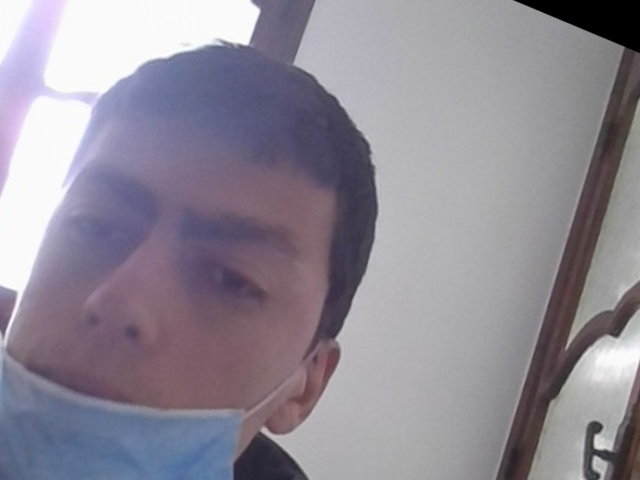mask_weared_incorrect: (1, 56, 376, 478)
